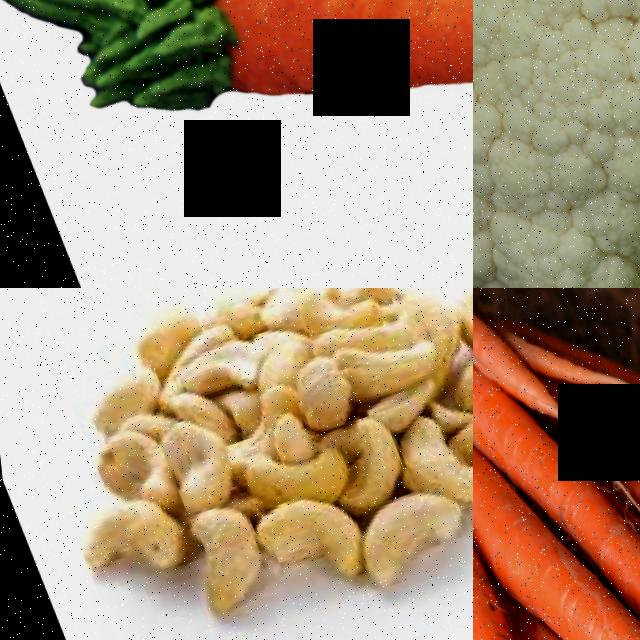carrot: (473, 383, 570, 640), (473, 432, 570, 640), (473, 288, 537, 402)
cashew: (316, 484, 466, 621), (219, 484, 365, 613), (149, 495, 275, 640), (71, 496, 193, 620), (249, 356, 351, 457), (373, 422, 473, 518), (65, 430, 166, 524), (140, 416, 231, 520), (144, 334, 249, 419), (341, 315, 445, 396), (439, 401, 473, 499)
cauliflower: (473, 0, 640, 288)
